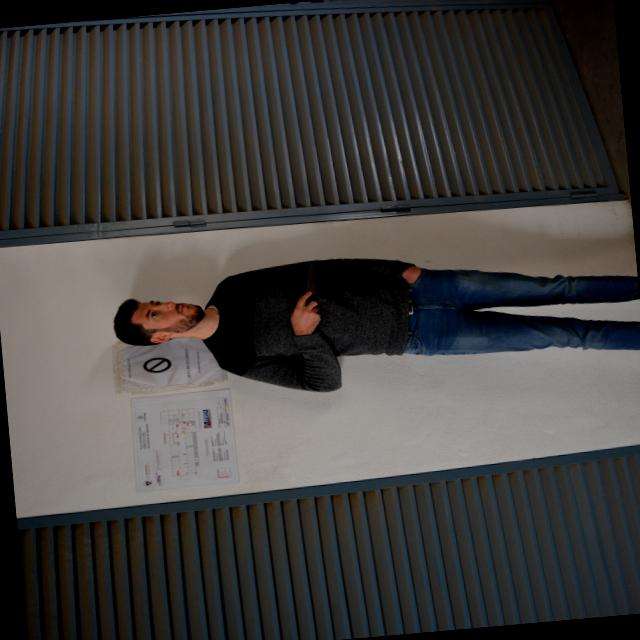knife: (288, 259, 322, 309)
